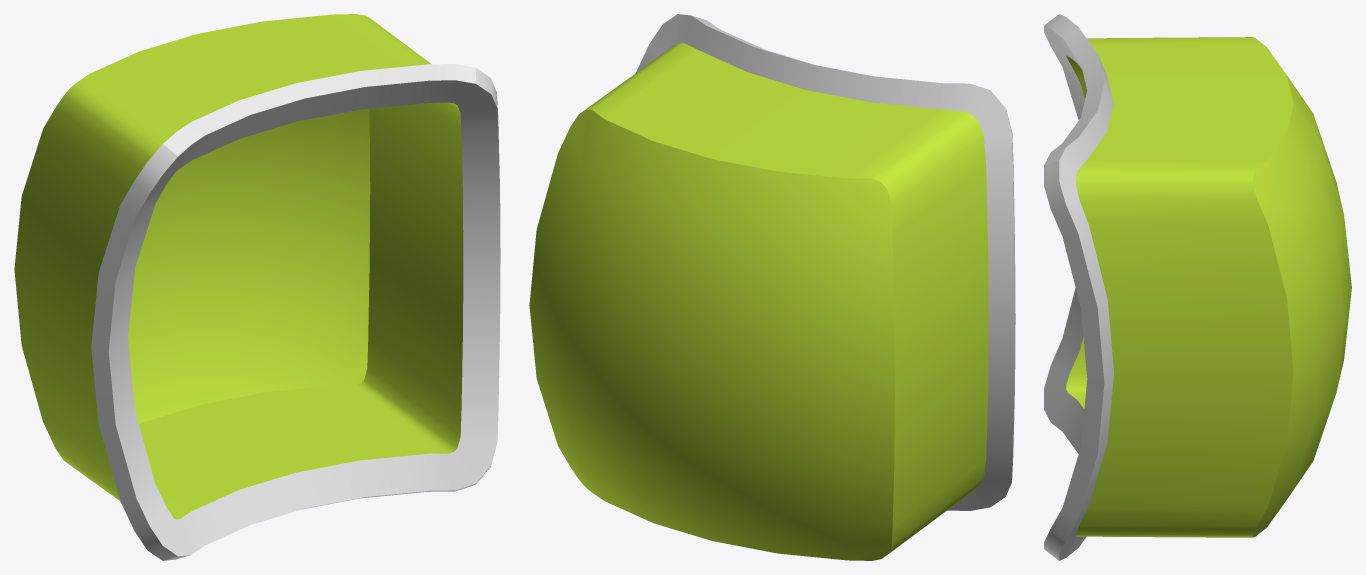
File: trap.fbx
3 views of the same model, side by side, from view 1: azimuth 30°, elevation 25°; view 2: azimuth 150°, elevation 25°; view 3: azimuth 270°, elevation 25° (orthographic). The views are drawn at different scales.
Visible parts, largest first — view 1: Trap; view 2: Trap; view 3: Trap.
Part boxes in pixels (x1,y1,x2,y2): Trap: (14, 14, 500, 560); Trap: (529, 14, 1015, 560); Trap: (1044, 14, 1351, 560).
Bounding box in the file's own units: 231 × 231 × 157.
